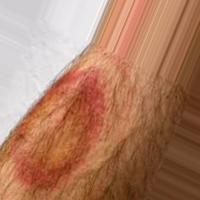Tick: (0, 63, 122, 200)
